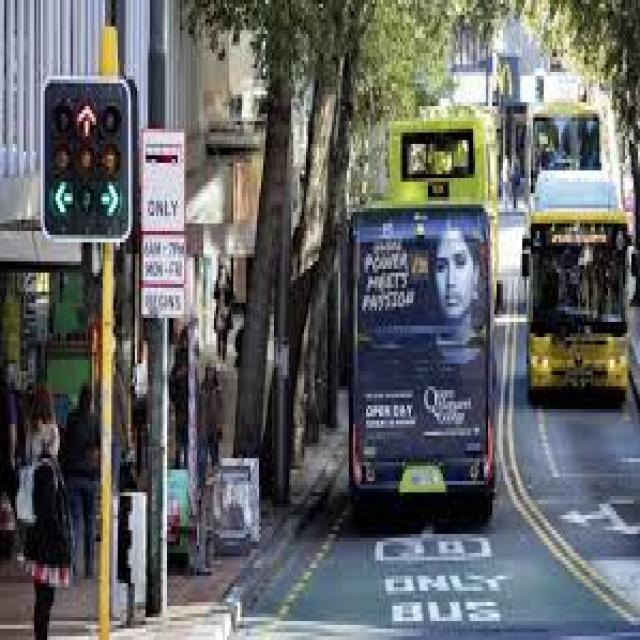bus: (338, 192, 494, 510), (530, 166, 628, 402)
person: (13, 384, 75, 640)
